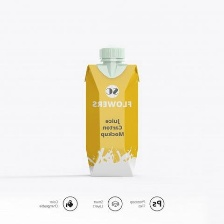carton: (76, 40, 143, 182)
